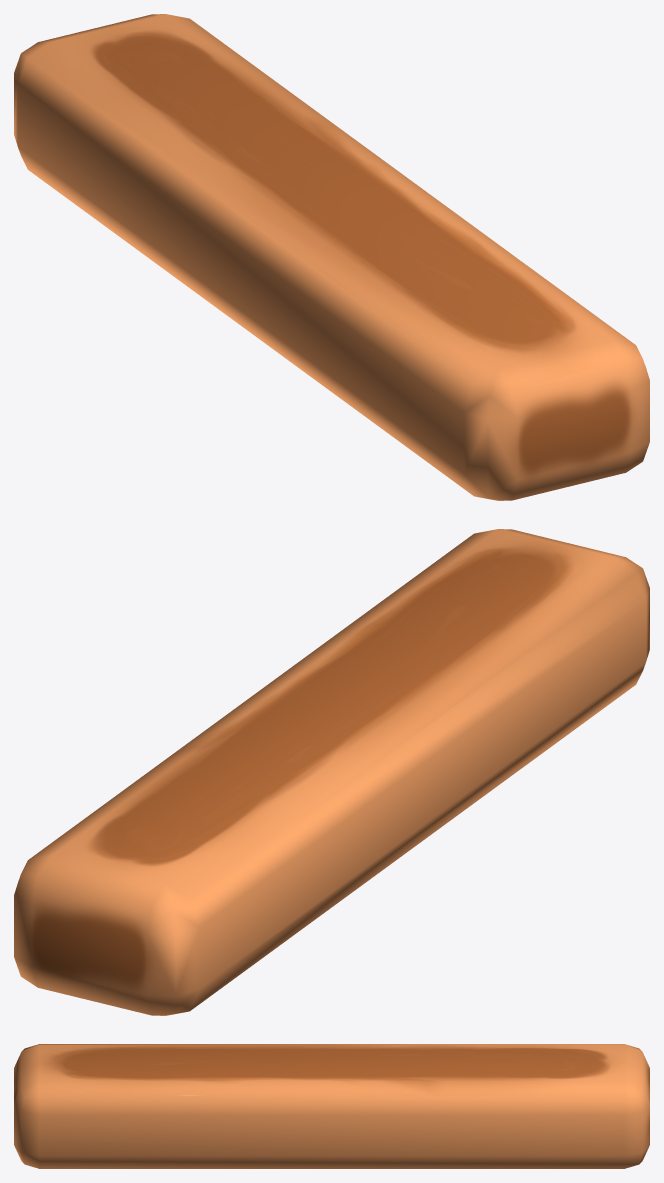
File: smallWoodBalk.fbx
The picture shows the model from 3 angles, top to bottom: view 1: azimuth 30°, elevation 25°; view 2: azimuth 150°, elevation 25°; view 3: azimuth 270°, elevation 25°; orthographic projection. The views are drawn at different scales.
Visible parts, largest first — view 1: wallBalk; view 2: wallBalk; view 3: wallBalk.
Boxes of the visible parts, box(x1,y1,x2,y2) form: wallBalk: box(14, 14, 649, 500); wallBalk: box(14, 529, 649, 1015); wallBalk: box(14, 1044, 649, 1168).
Bounding box in the file's own units: 4285 × 2977 × 19808.
